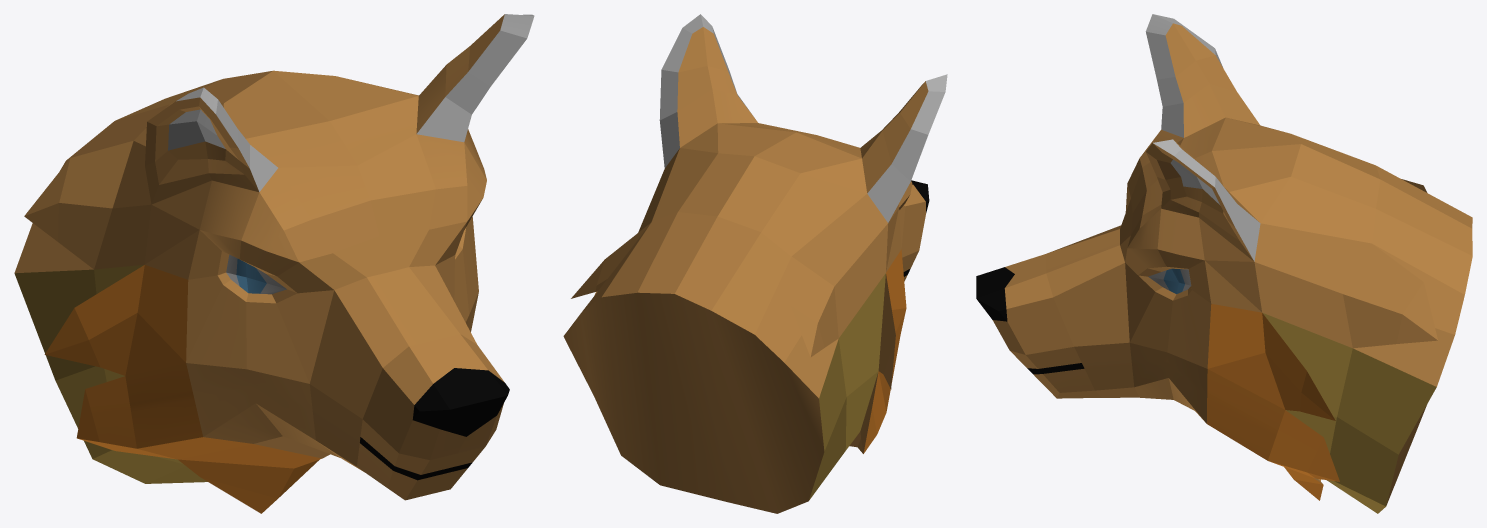
The model's file is wolfHead.gltf.
3 renders of one model, left to right at view 1: azimuth 30°, elevation 25°; view 2: azimuth 150°, elevation 25°; view 3: azimuth 270°, elevation 25°, orthographic. The views are drawn at different scales.
Parts seen in each view (by area): view 1: Wolf; view 2: Wolf; view 3: Wolf.
Boxes of the visible parts, x1=… form: Wolf: x1=14, y1=14, x2=534, y2=513; Wolf: x1=563, y1=14, x2=947, y2=513; Wolf: x1=976, y1=14, x2=1472, y2=513.
Size of the model in its own units: 92.48 by 114 by 122.
